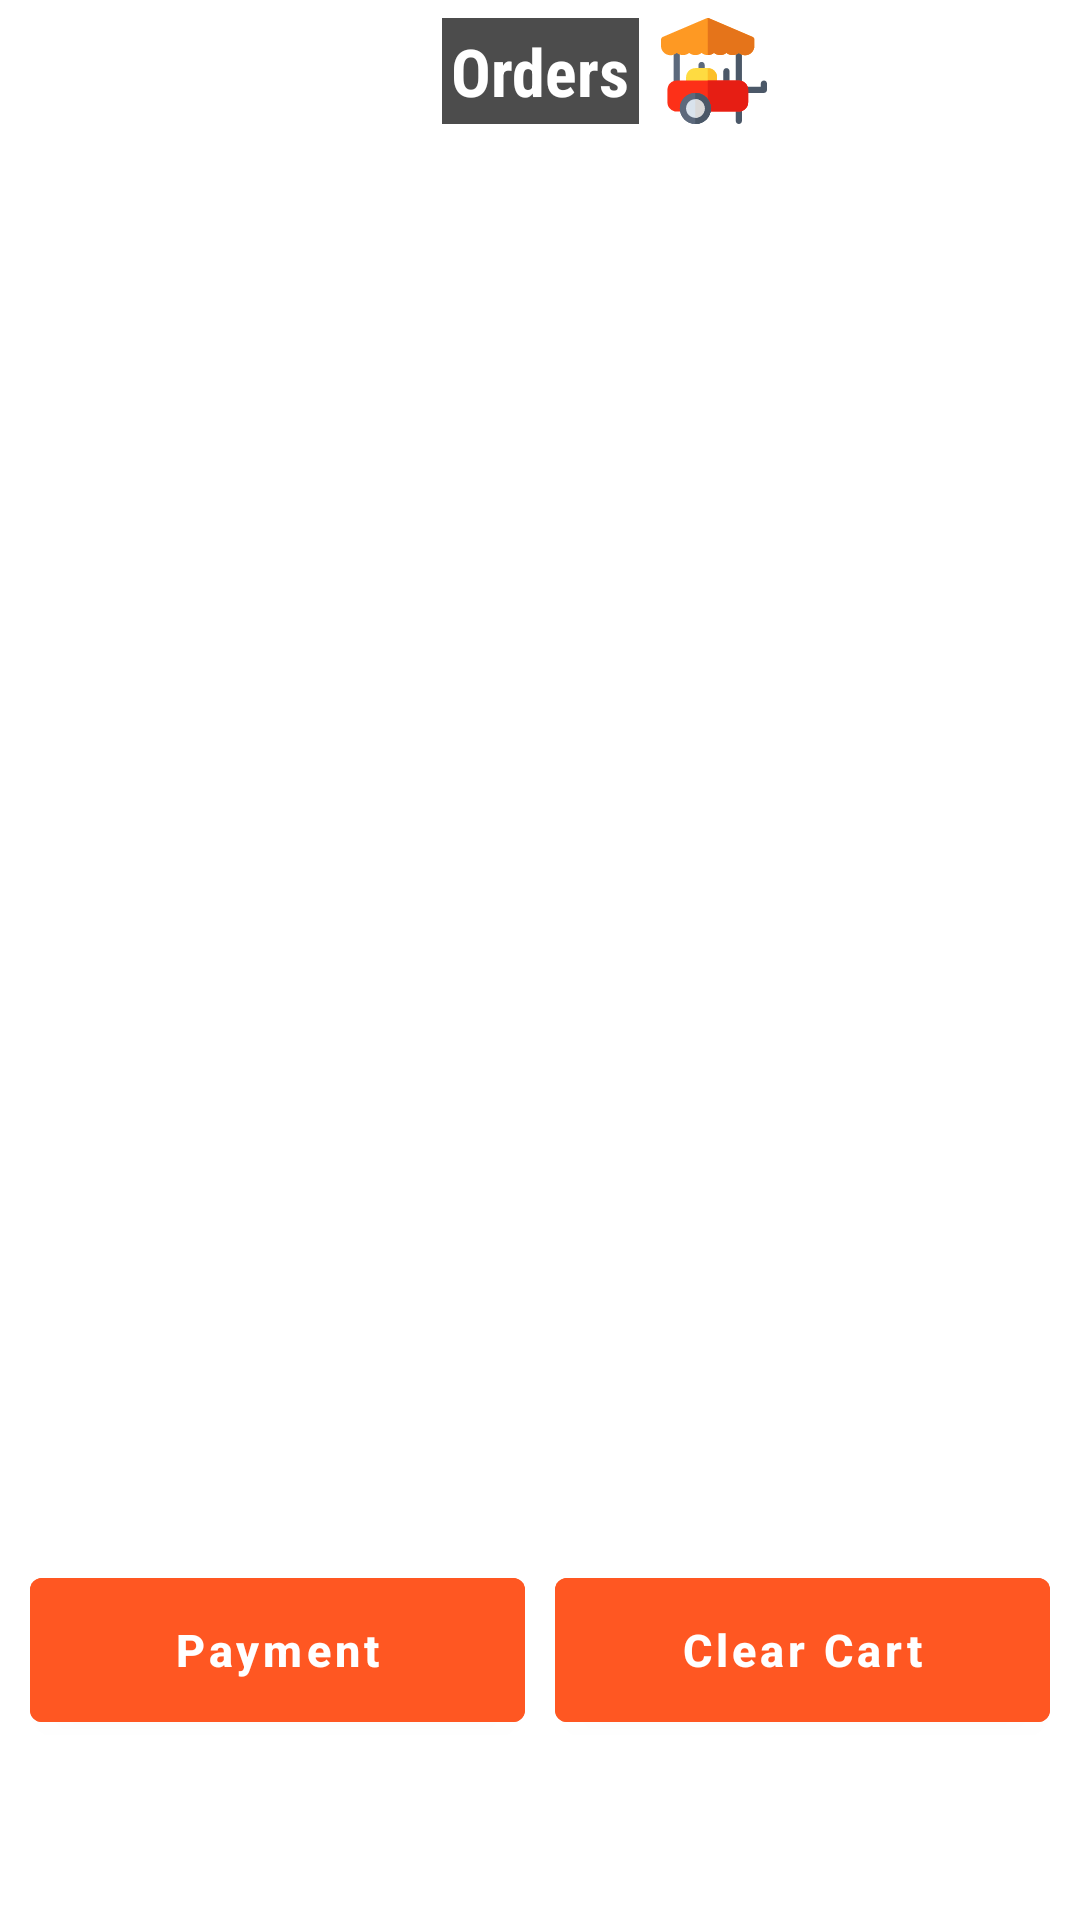

Icon bounding boxes for this 1080 x 1920 phone screenshot, format (x1, y1, x2, y2):
foodcart: (661, 18, 767, 124)
